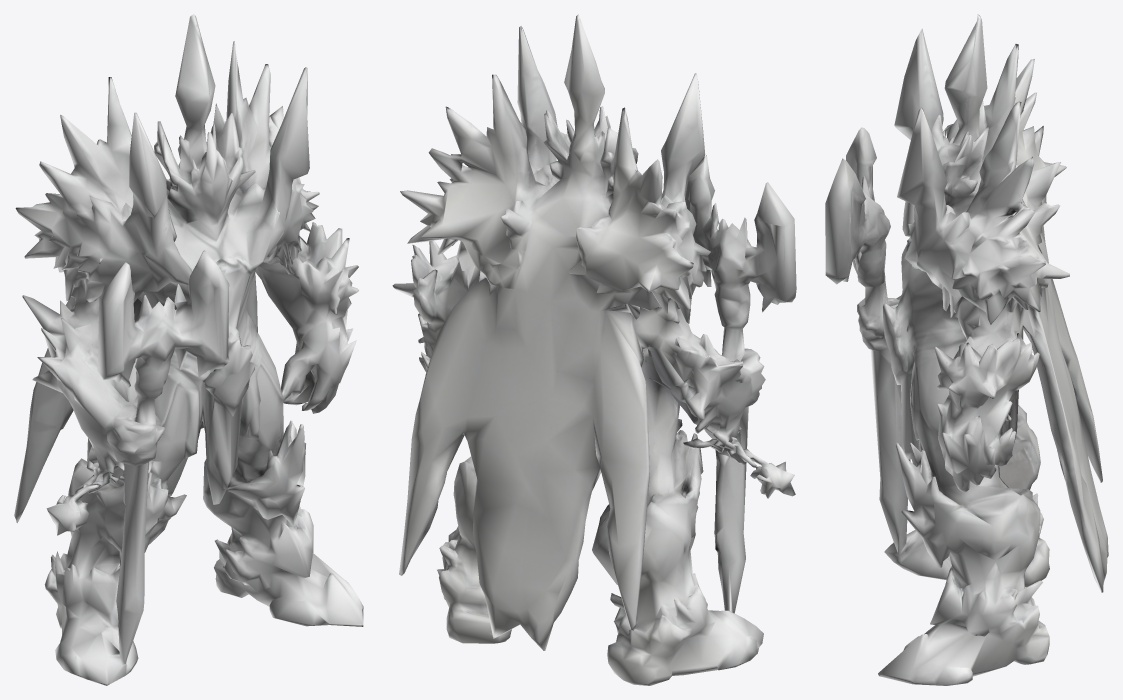
File: King.fbx
3 renders of one model, left to right at view 1: azimuth 30°, elevation 25°; view 2: azimuth 150°, elevation 25°; view 3: azimuth 270°, elevation 25°, orthographic. The views are drawn at different scales.
Visible parts, largest first — view 1: Mesh_0; view 2: Mesh_0; view 3: Mesh_0.
Part boxes in pixels (x1,y1,x2,y2): Mesh_0: (14,14,363,685); Mesh_0: (392,14,796,685); Mesh_0: (825,14,1108,685).
Bounding box in the file's own units: 122 × 200 × 85.03.
1 material, 1 textured.
